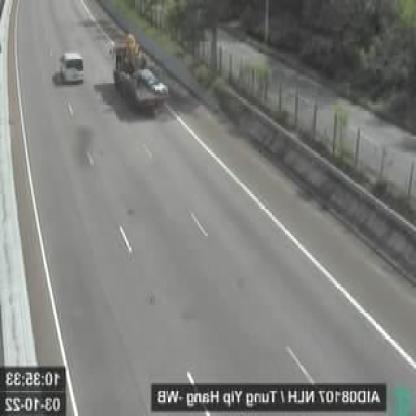Car: (64, 48, 84, 82)
Truck: (113, 35, 170, 112)
